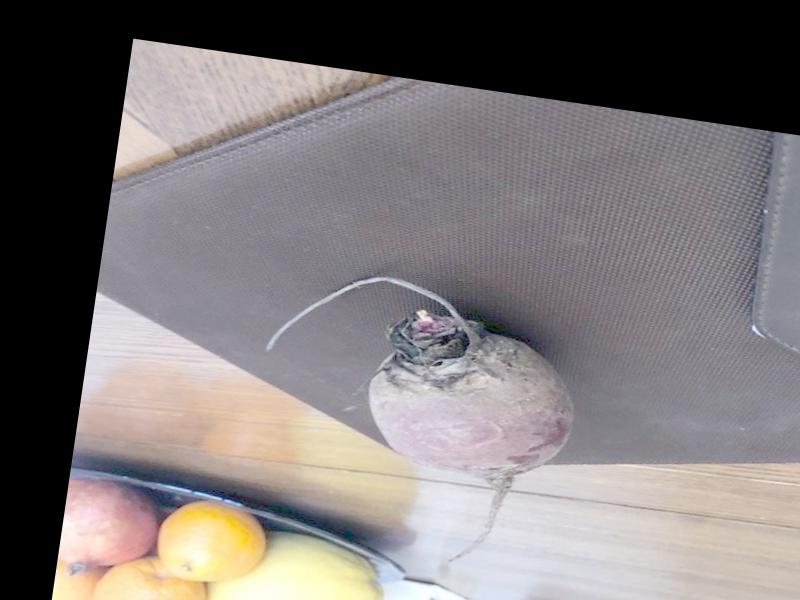Beet: (238, 260, 590, 578)
